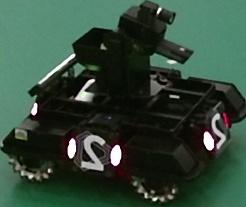armor_2: (68, 138, 121, 166)
front_2: (208, 109, 231, 152)
light: (39, 53, 76, 85)
right_2: (73, 131, 111, 171)
